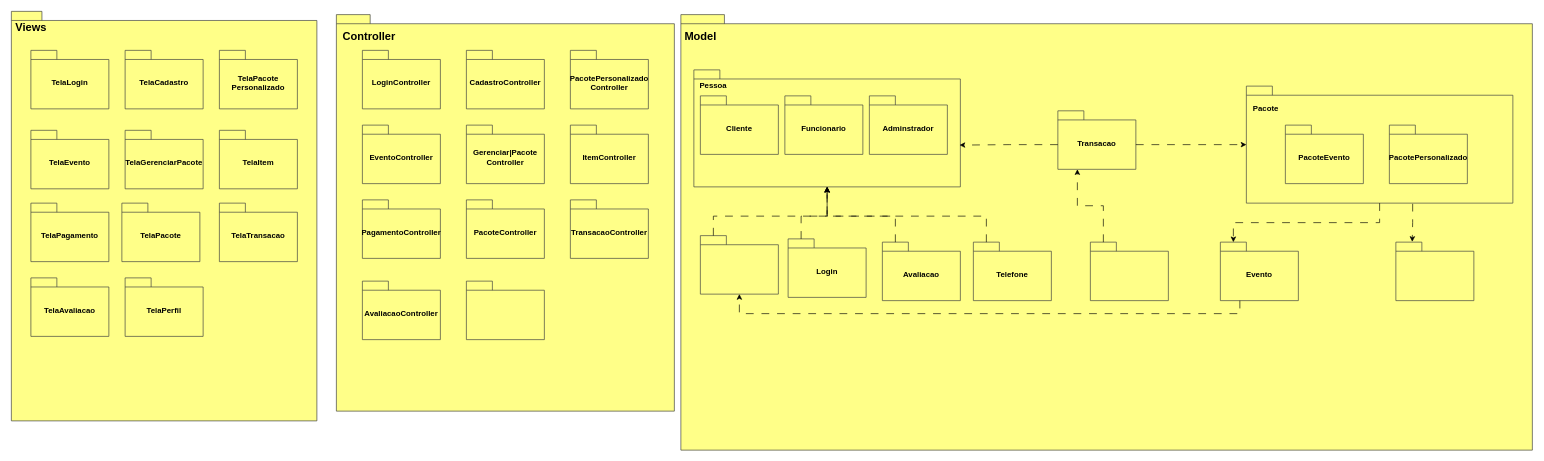
The diagram is 1544 pixels wide and 461 high, and some of its shapes have lost their labels. Each missing label, with the centre of its shape:
"Endereco" goes at (739,264).
"Itens" goes at (1434,271).
"Pagamento" goes at (1129,271).
"PerfilController" goes at (505,310).
